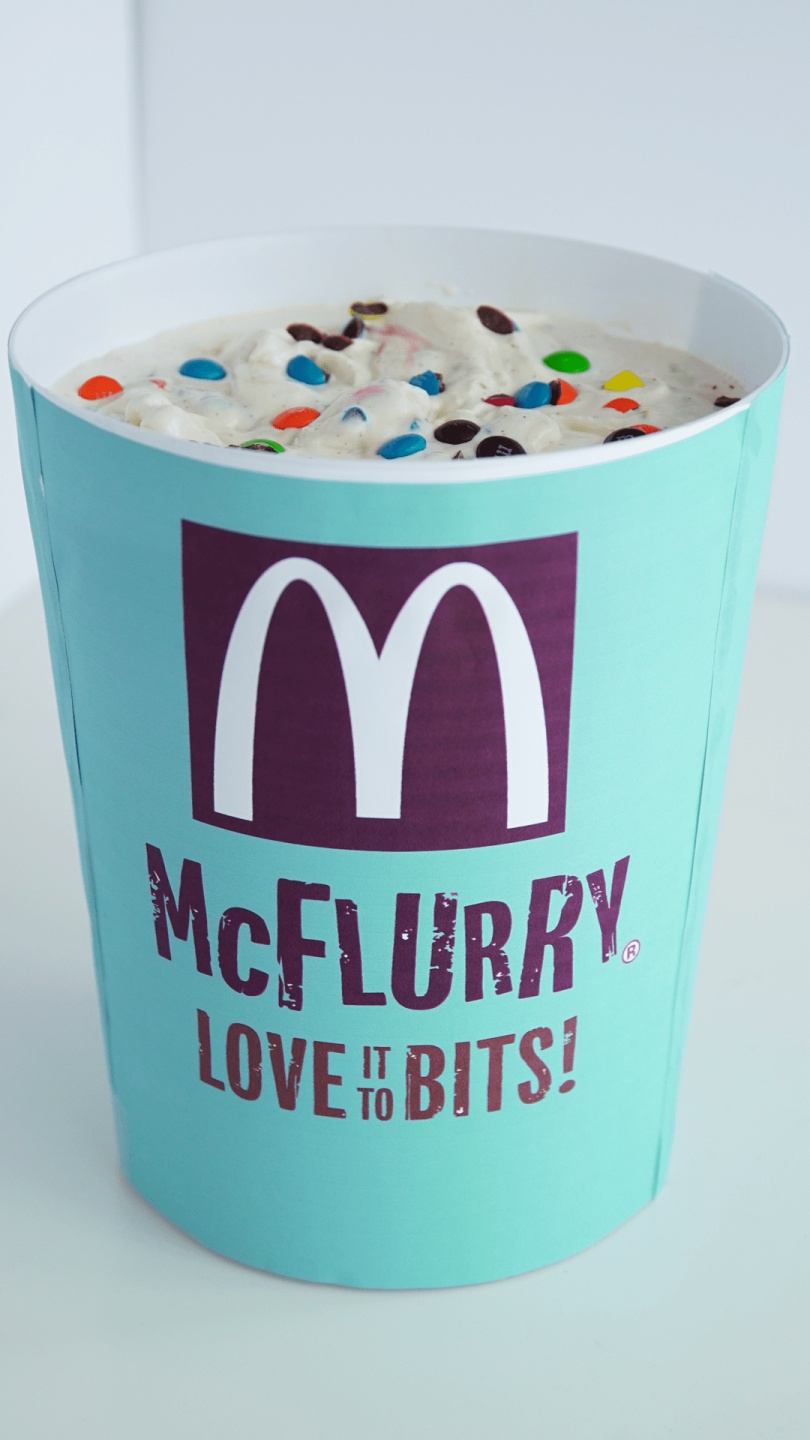mcdonalds: (195, 539, 565, 856)
